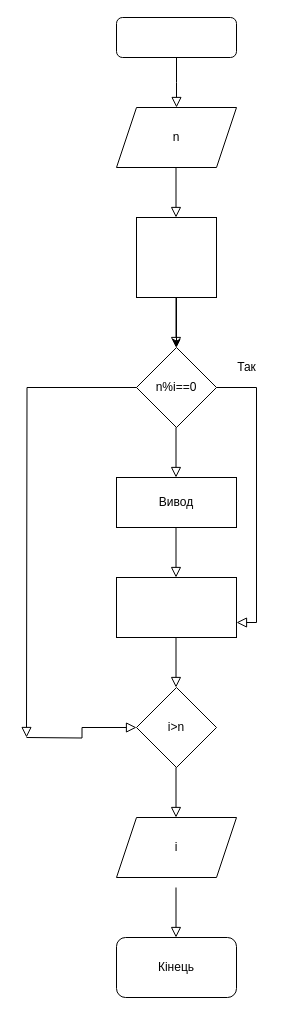
The diagram is 284 pixels wide and 1015 high, and some of its shapes have lost their labels. Here are the shapes that lost their labels. From the top down, the box of each, then its label:
(116, 16, 236, 58): Початок
(136, 216, 216, 298): i=1
(116, 576, 236, 638): i++
